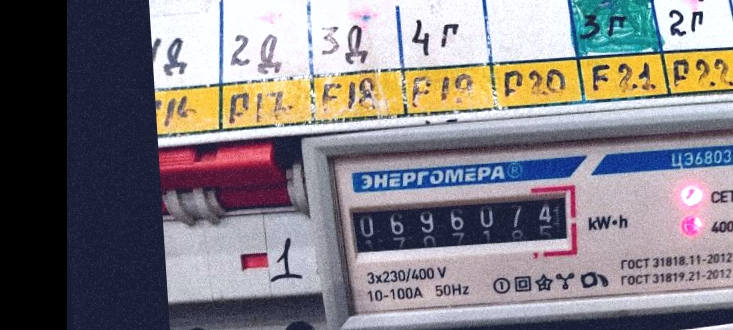0: (356, 212, 377, 237), (478, 203, 495, 229)
4: (536, 199, 553, 222)
5: (538, 224, 555, 240)
6: (449, 204, 467, 231), (388, 210, 407, 235)
7: (508, 202, 526, 228)
9: (418, 207, 436, 234)
screen: (339, 180, 583, 264)
